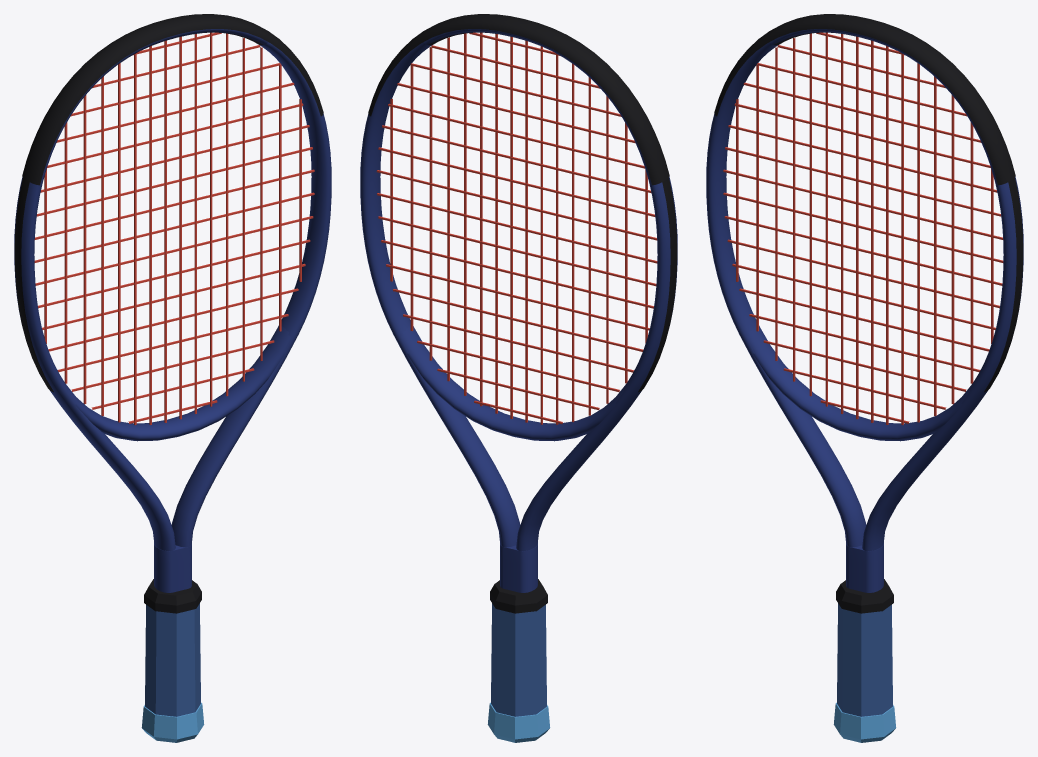
File: head-paw-patrol-junior-21.glb
3 views of the same model, side by side, from view 1: azimuth 30°, elevation 25°; view 2: azimuth 150°, elevation 25°; view 3: azimuth 330°, elevation 25° (orthographic).
Visible parts, largest first — view 1: frame, strings_mains, strings_crosses, bumper, grip, butt_cap, grommets, collar; view 2: frame, strings_mains, strings_crosses, bumper, grip, butt_cap, grommets, collar; view 3: frame, strings_mains, strings_crosses, bumper, grip, butt_cap, grommets, collar.
Boxes of the visible parts, x1,y1,x2,y2 form: frame: (14,29,331,592); strings_mains: (44,32,301,425); strings_crosses: (34,32,314,423); bumper: (22,14,323,185); grip: (145,603,200,716); butt_cap: (141,702,204,742); grommets: (14,178,53,392); collar: (144,579,201,613); frame: (360,29,677,592); strings_mains: (390,32,647,424); strings_crosses: (376,32,657,424); bumper: (368,14,669,185); grip: (491,603,546,716); butt_cap: (487,702,550,742); grommets: (638,178,677,392); collar: (490,579,547,613); frame: (706,29,1023,592); strings_mains: (736,32,993,425); strings_crosses: (723,32,1003,423); bumper: (714,14,1015,185); grip: (837,603,892,716); butt_cap: (833,702,896,742); grommets: (984,178,1023,392); collar: (836,579,893,613).
Bounding box in the file's own units: 0.2449 × 0.5337 × 0.0396.
